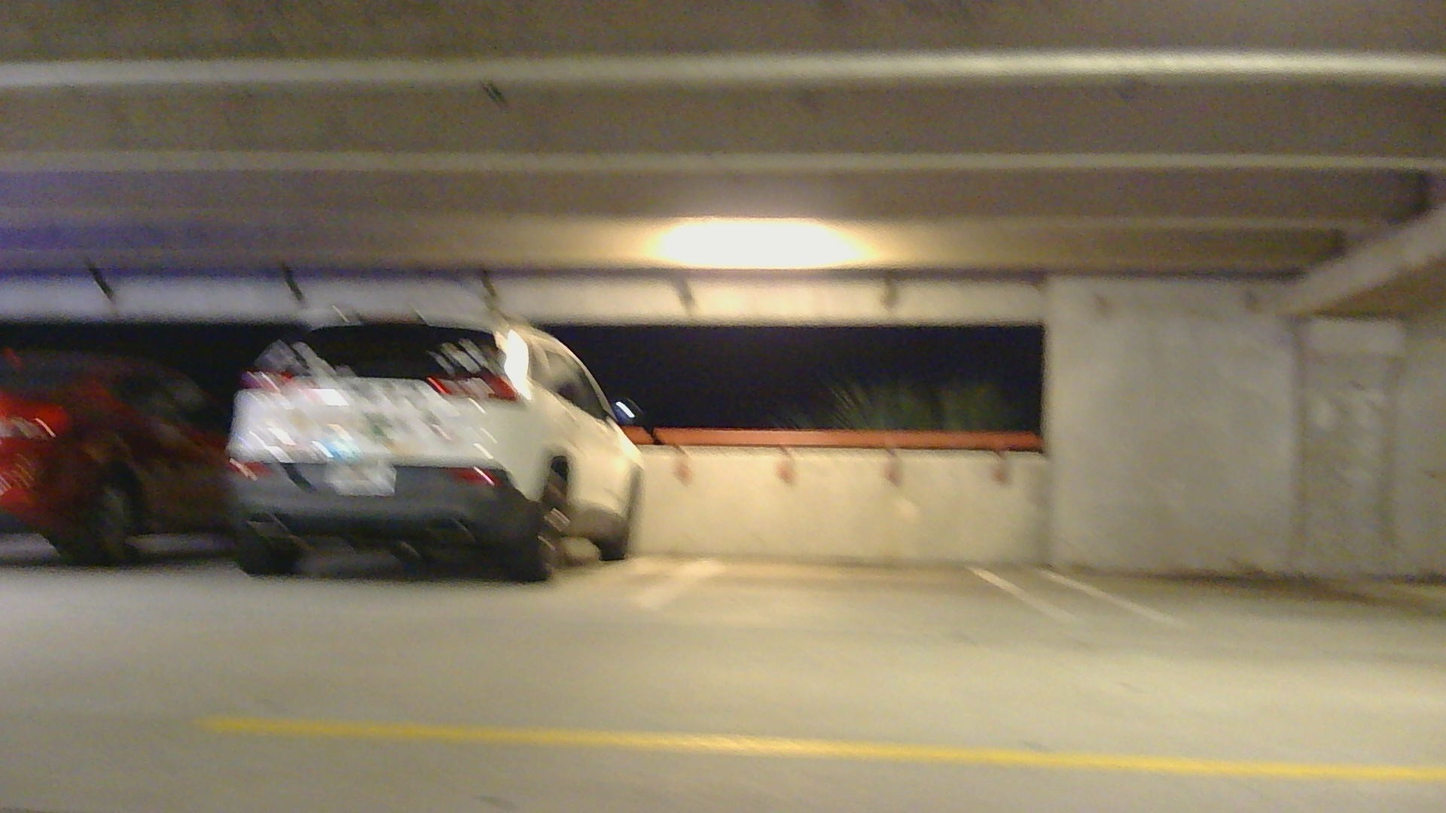empty_spot: (612, 476, 1097, 632), (1021, 501, 1446, 633)
occupied_spot: (240, 306, 642, 583), (4, 353, 230, 581)
